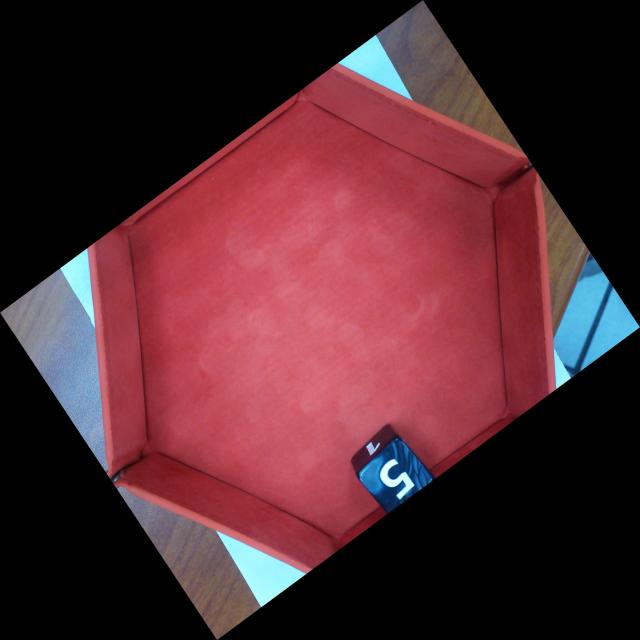dice: (357, 437, 435, 516)
